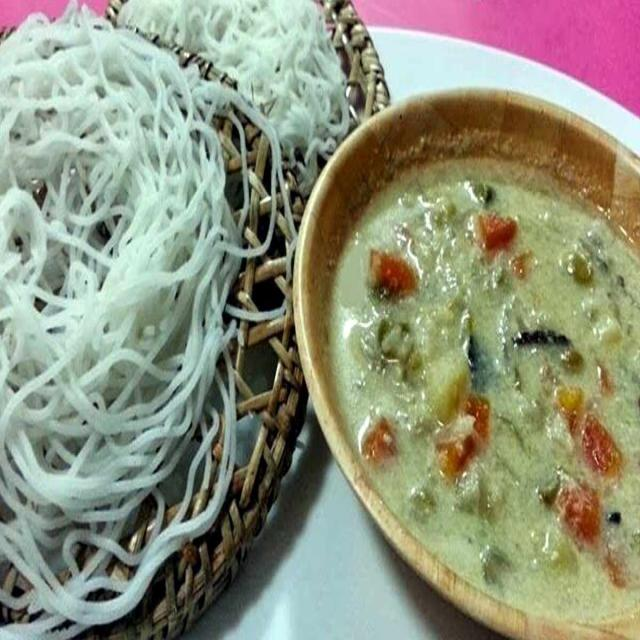IDIYAPPAM: (0, 9, 235, 631)
KURMA: (311, 124, 638, 628)
